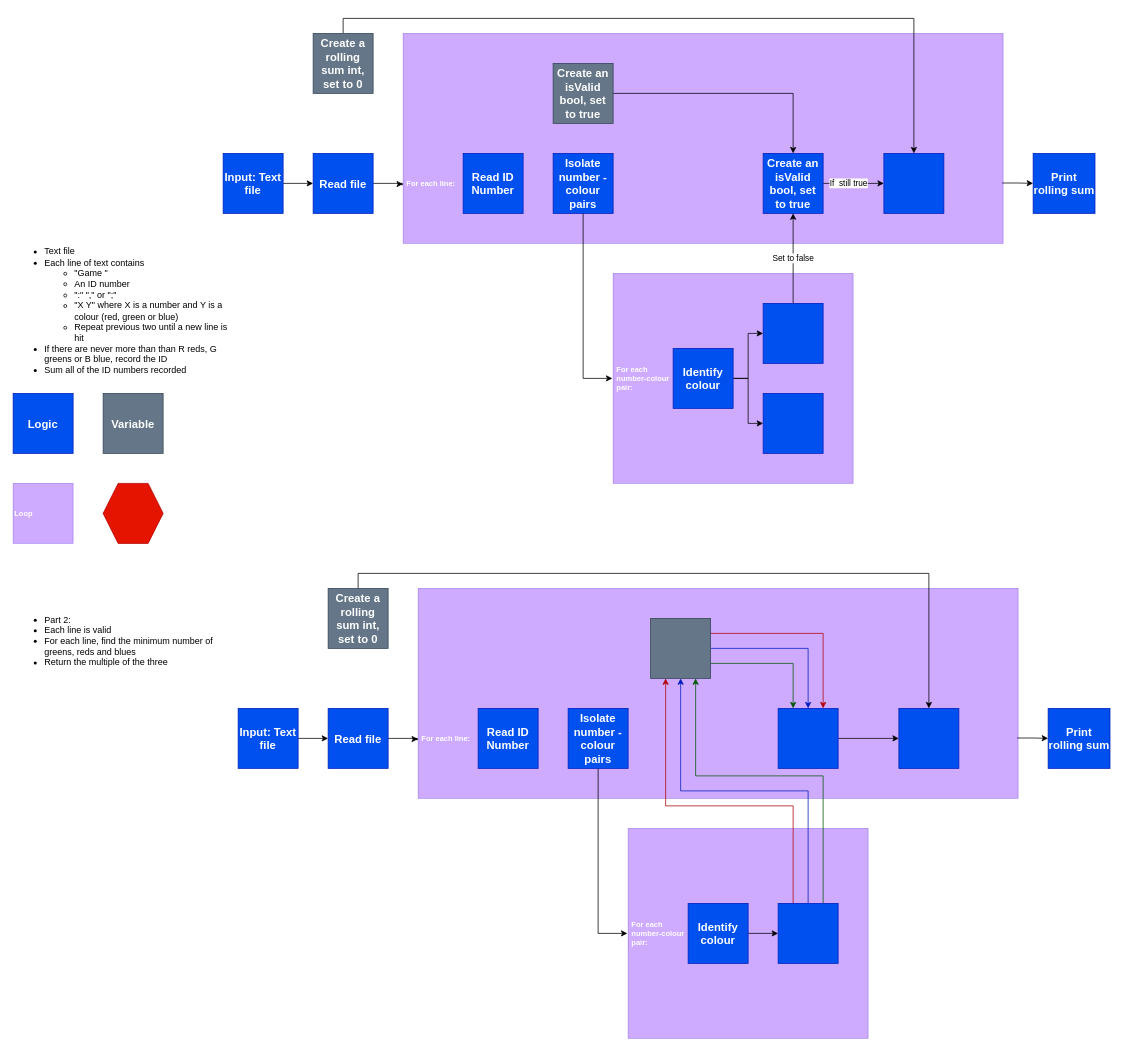
The diagram is 1124 pixels wide and 1052 high, and some of its shapes have lost their labels. Each missing label, with the box of its shape:
Add ID to rolling sum of numbers: (883, 153, 944, 213)
Add to rolling sum of numbers: (898, 708, 959, 768)
Create three integers, minRed, minBlue, minGreen: (650, 618, 711, 678)
Else: (762, 393, 823, 453)
If the number is higher than allowed for that colour: (762, 303, 823, 363)
If the number is higher than minColour, increase the min to that number: (777, 903, 838, 963)
Multiply the three minColours: (777, 708, 838, 768)
Warning: (102, 483, 163, 543)
